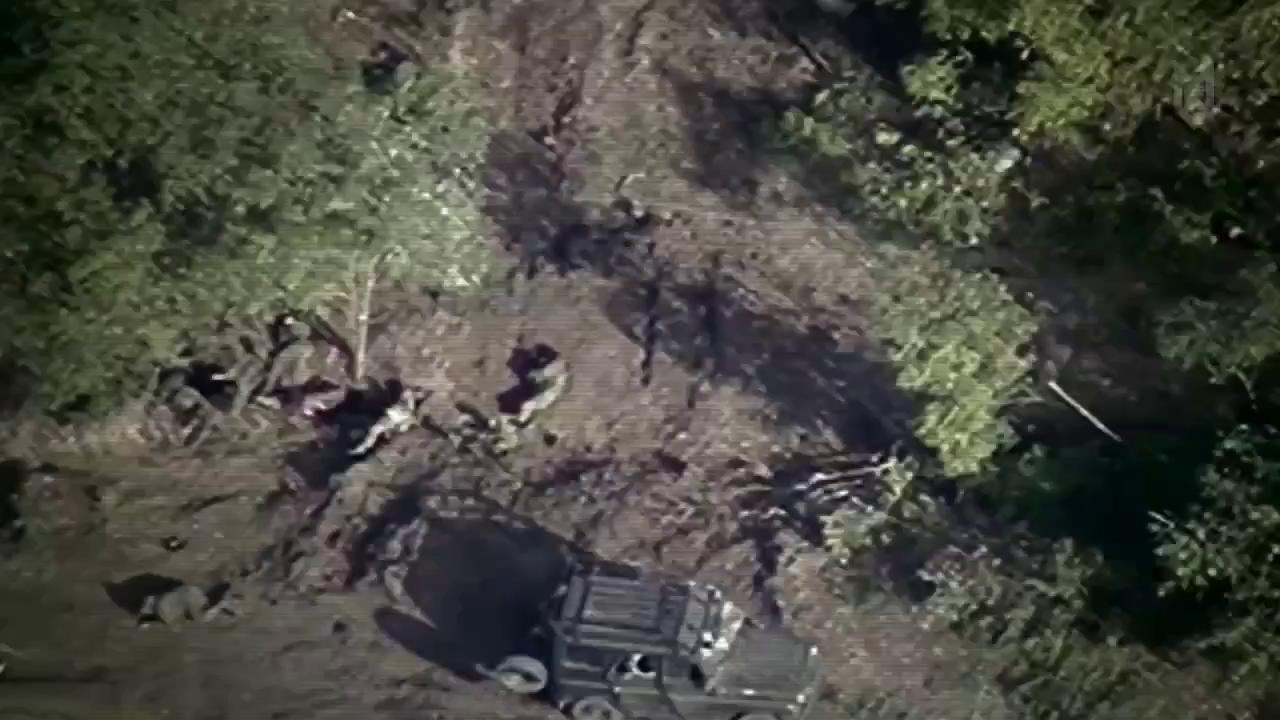tank: (534, 569, 821, 720)
